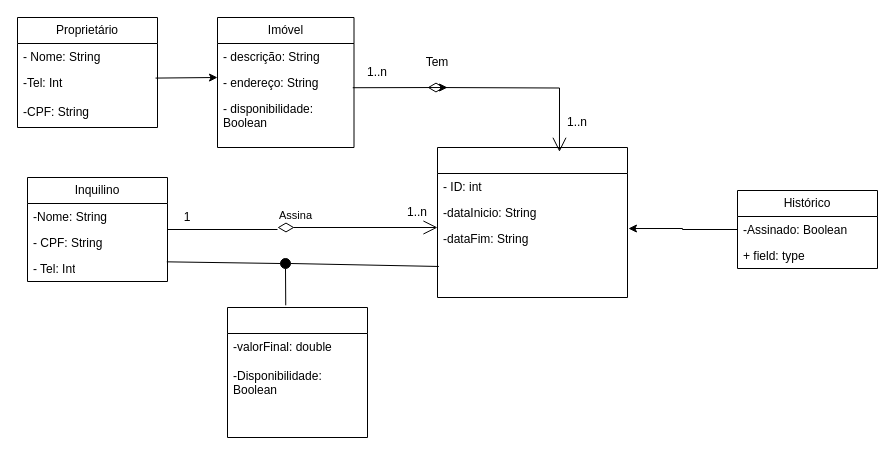
Some shapes in this 895 by 458 pixel diagram are drawn without their labels. Each missing label, with the box of its shape:
Contrato: (436, 146, 628, 298)
Locacao: (226, 306, 368, 438)
